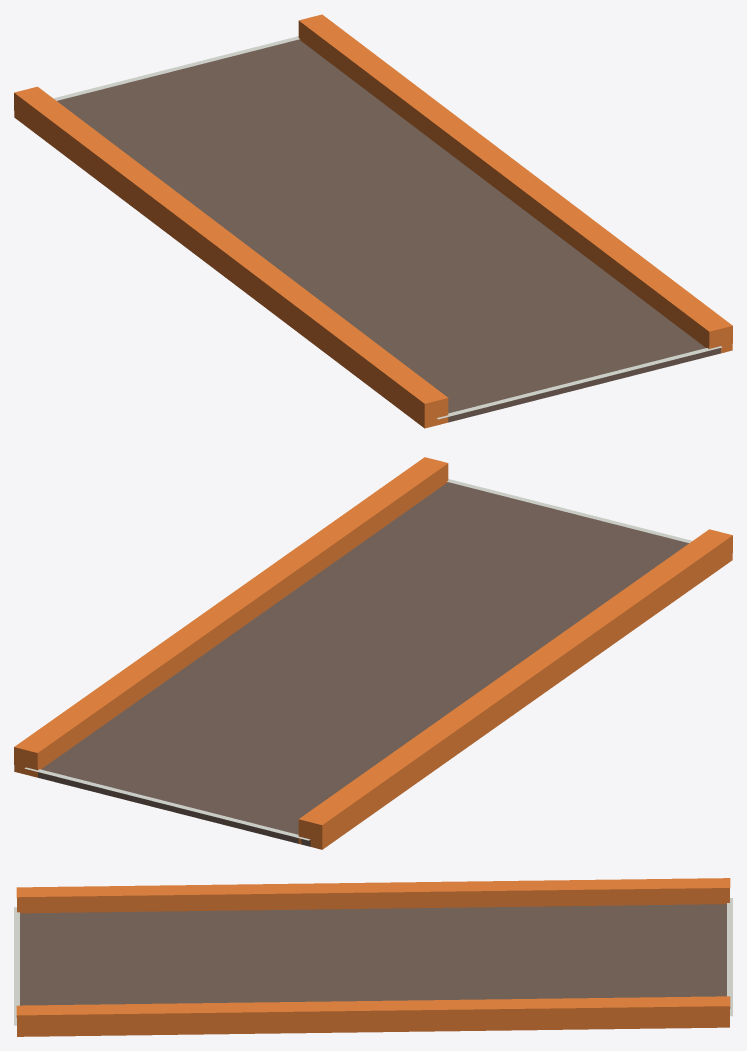
Rendered from SM_MP_Film_C_0_2.fbx.
3 views of the same model, one above another, from view 1: azimuth 30°, elevation 25°; view 2: azimuth 150°, elevation 25°; view 3: azimuth 270°, elevation 25° (orthographic). The views are drawn at different scales.
Parts seen in each view (by area): view 1: SM_MP_Film_C_0_2; view 2: SM_MP_Film_C_0_2; view 3: SM_MP_Film_C_0_2.
Part boxes in pixels (x1,y1,x2,y2): SM_MP_Film_C_0_2: (14, 14, 732, 428); SM_MP_Film_C_0_2: (14, 457, 732, 849); SM_MP_Film_C_0_2: (14, 878, 732, 1036).
Size of what is drawn, in the model's own units: 260 by 605 by 30.99.
